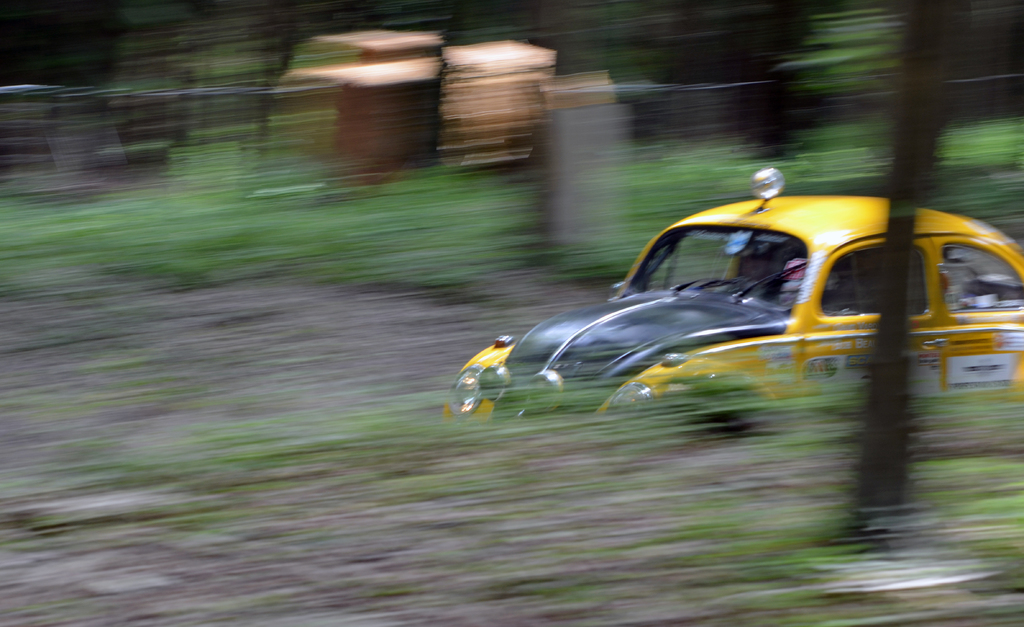mobil: (450, 164, 1024, 432)
